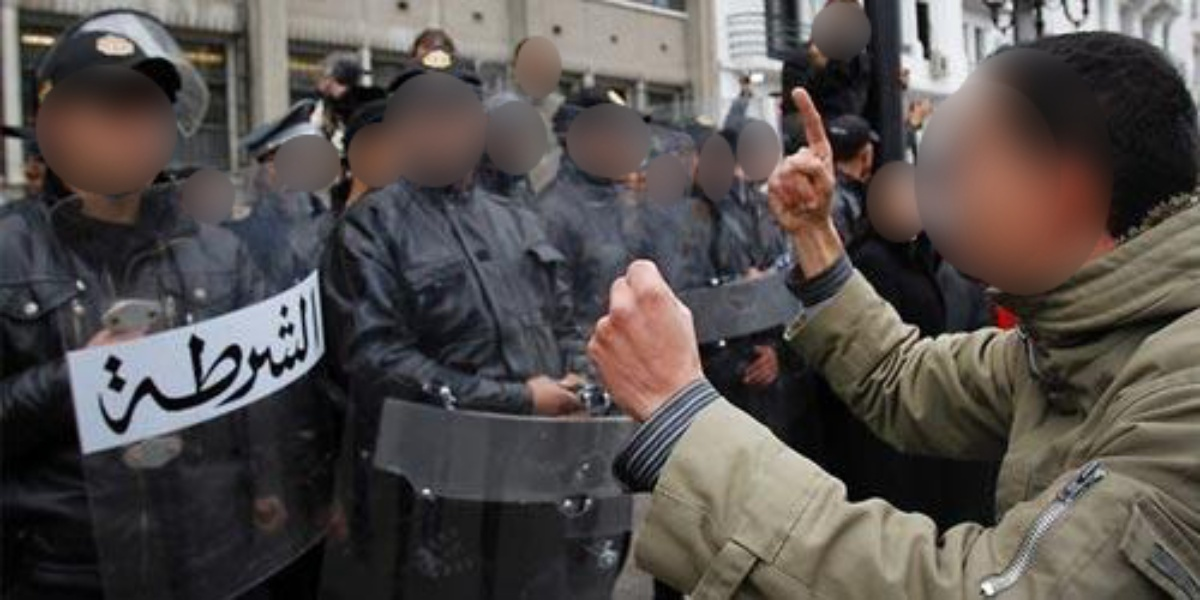text: (81, 286, 96, 449), (97, 286, 112, 449), (113, 286, 128, 449), (129, 286, 144, 449), (145, 286, 160, 449), (161, 286, 176, 449), (177, 286, 192, 449), (193, 286, 208, 449), (209, 286, 224, 449), (225, 286, 240, 449), (241, 286, 256, 449), (257, 286, 272, 449), (273, 286, 288, 449), (289, 286, 304, 449), (305, 286, 320, 449), (321, 286, 336, 449), (337, 286, 341, 449)
